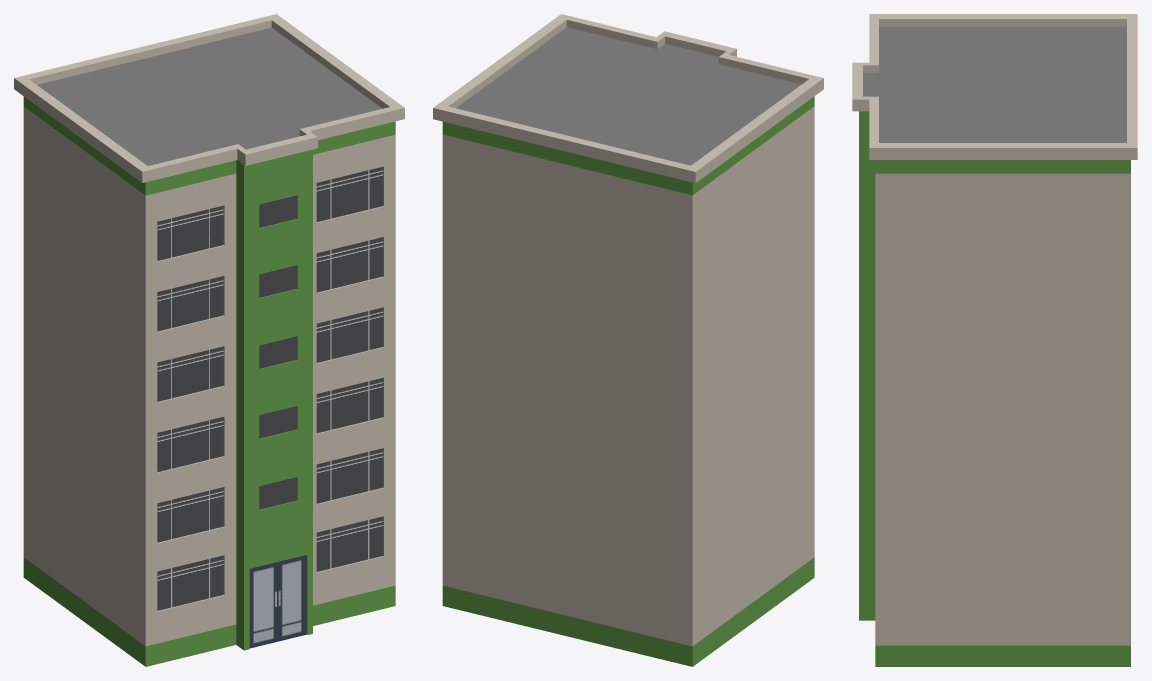
The model's file is Building_Sky_big_color01.glb.
3 views of the same model, side by side, from view 1: azimuth 30°, elevation 25°; view 2: azimuth 150°, elevation 25°; view 3: azimuth 270°, elevation 25° (orthographic). The views are drawn at different scales.
Parts seen in each view (by area): view 1: Building Sky_big_color01; view 2: Building Sky_big_color01; view 3: Building Sky_big_color01.
Part boxes in pixels (box(x1,y1,x2,y2)): Building Sky_big_color01: box(14, 14, 404, 666); Building Sky_big_color01: box(433, 14, 823, 666); Building Sky_big_color01: box(852, 14, 1137, 666).
Size of the model in its own units: 13.66 by 24.8 by 12.3.
1 material, 1 textured.
